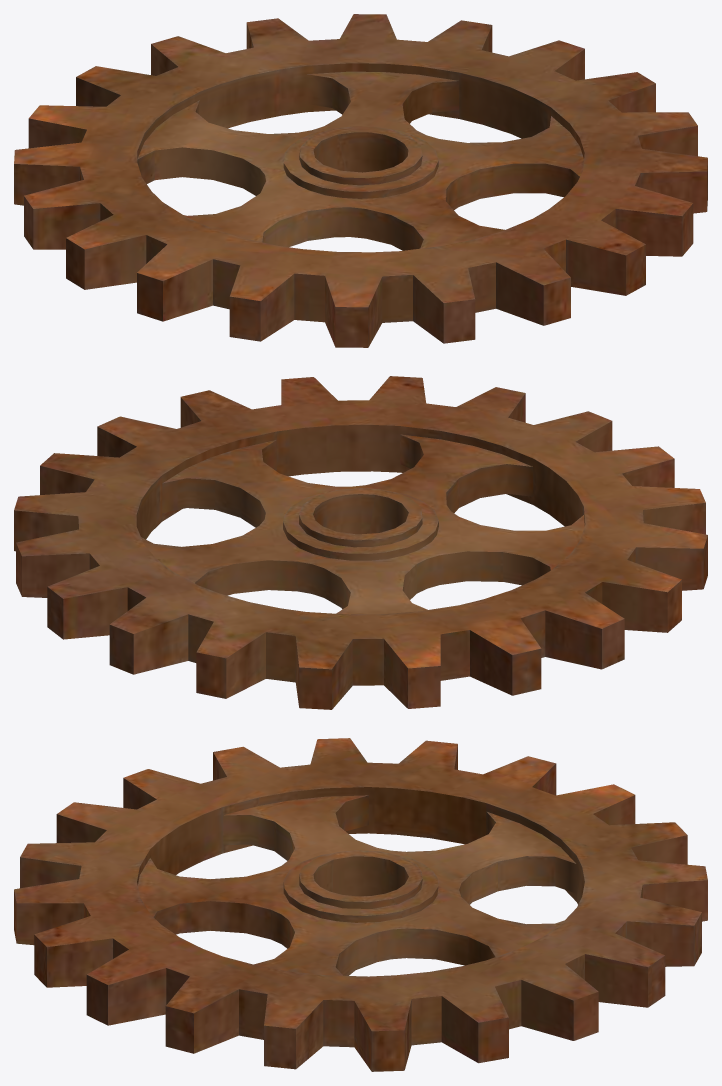
File: steampunk_gear_06.glb
The picture shows the model from 3 angles, top to bottom: view 1: azimuth 30°, elevation 25°; view 2: azimuth 150°, elevation 25°; view 3: azimuth 270°, elevation 25°; orthographic projection.
Parts seen in each view (by area): view 1: steampunk_gear_06; view 2: steampunk_gear_06; view 3: steampunk_gear_06.
Part boxes in pixels (left/top/right/bottom): steampunk_gear_06: left=14, top=14, right=707, bottom=347; steampunk_gear_06: left=14, top=376, right=707, bottom=709; steampunk_gear_06: left=14, top=738, right=707, bottom=1071.
Size of what is drawn, in the model's own units: 0.1376 by 0.0126 by 0.1376.
1 material, 1 textured.
